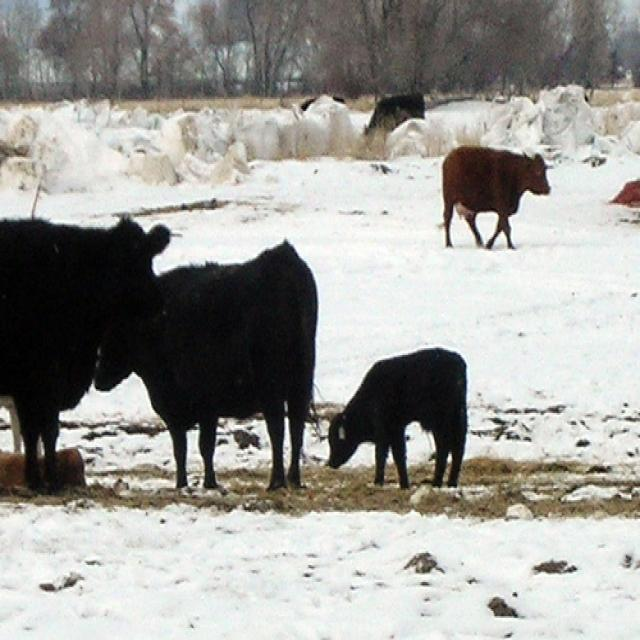cow: (93, 237, 320, 493), (1, 215, 173, 493), (326, 341, 470, 491), (442, 145, 552, 251), (362, 93, 426, 139)
